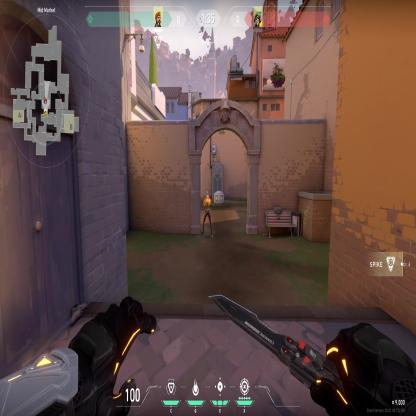enemy: (200, 190, 213, 241)
